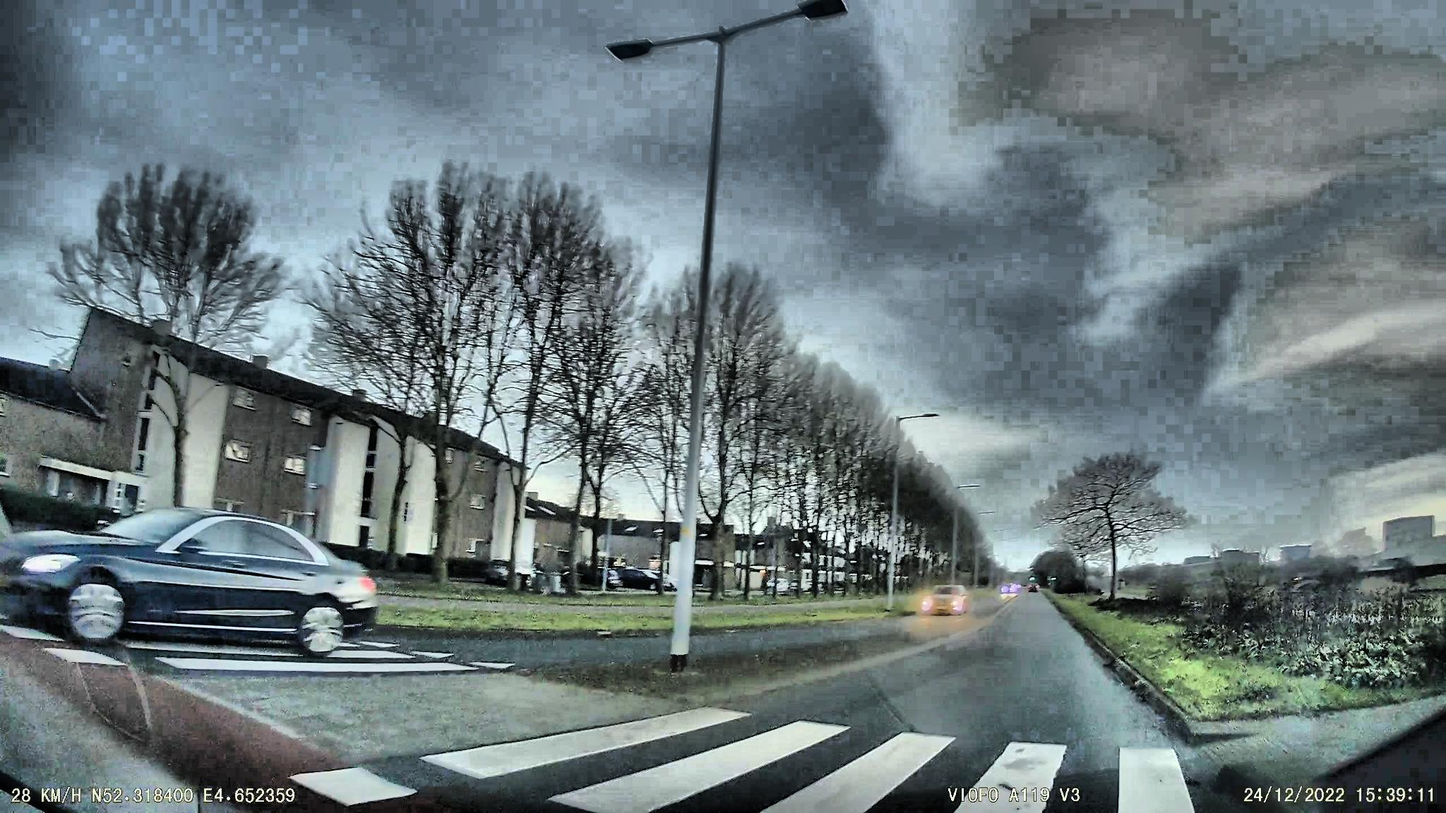Roads: (291, 594, 1325, 813)
